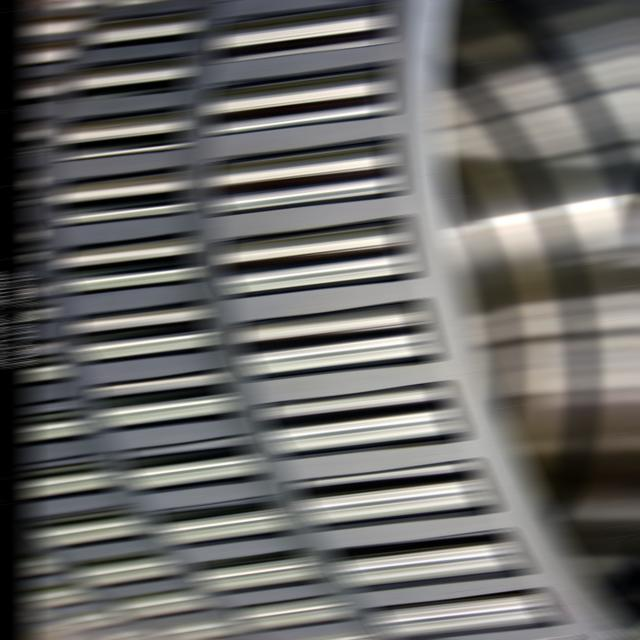Bearing: (196, 0, 640, 639), (42, 2, 388, 640), (22, 1, 165, 640)
